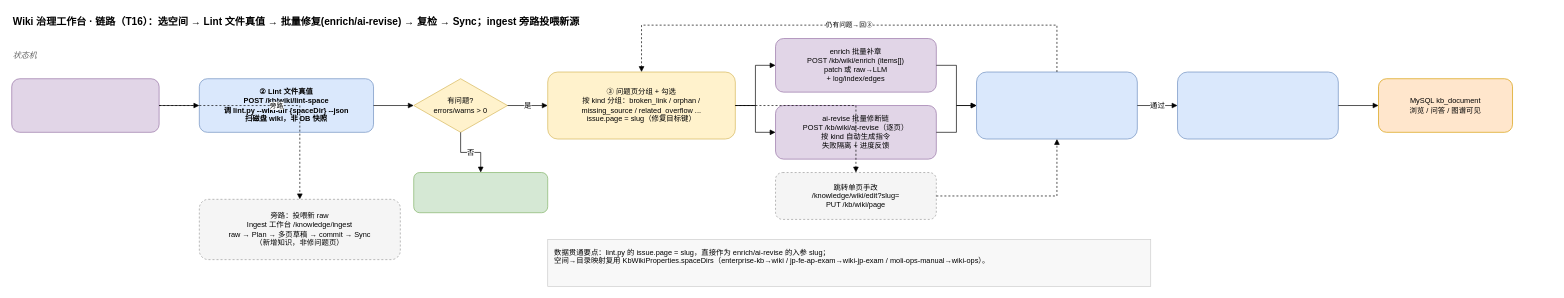
Image size: 1564x298. Some labels were removed from this diagram. The box of each missing label's shape, as (x1, y1, x2, y2) in pixels:
① 选空间 KbSpaceSelector enterprise-kb / jp-fe-ap-exam / moli-ops-manual: (11, 78, 159, 132)
④ Lint 复检 再调 /kb/wiki/lint-space 对比问题数 → 确认清零 status=relinted: (976, 71, 1137, 139)
⑤ Sync 入库 POST /kb/sync/trigger?spaceId= kb/wiki → kb_document status=synced: (1177, 71, 1338, 139)
健康 status=linted（无 ERROR/WARN）: (413, 172, 548, 213)
